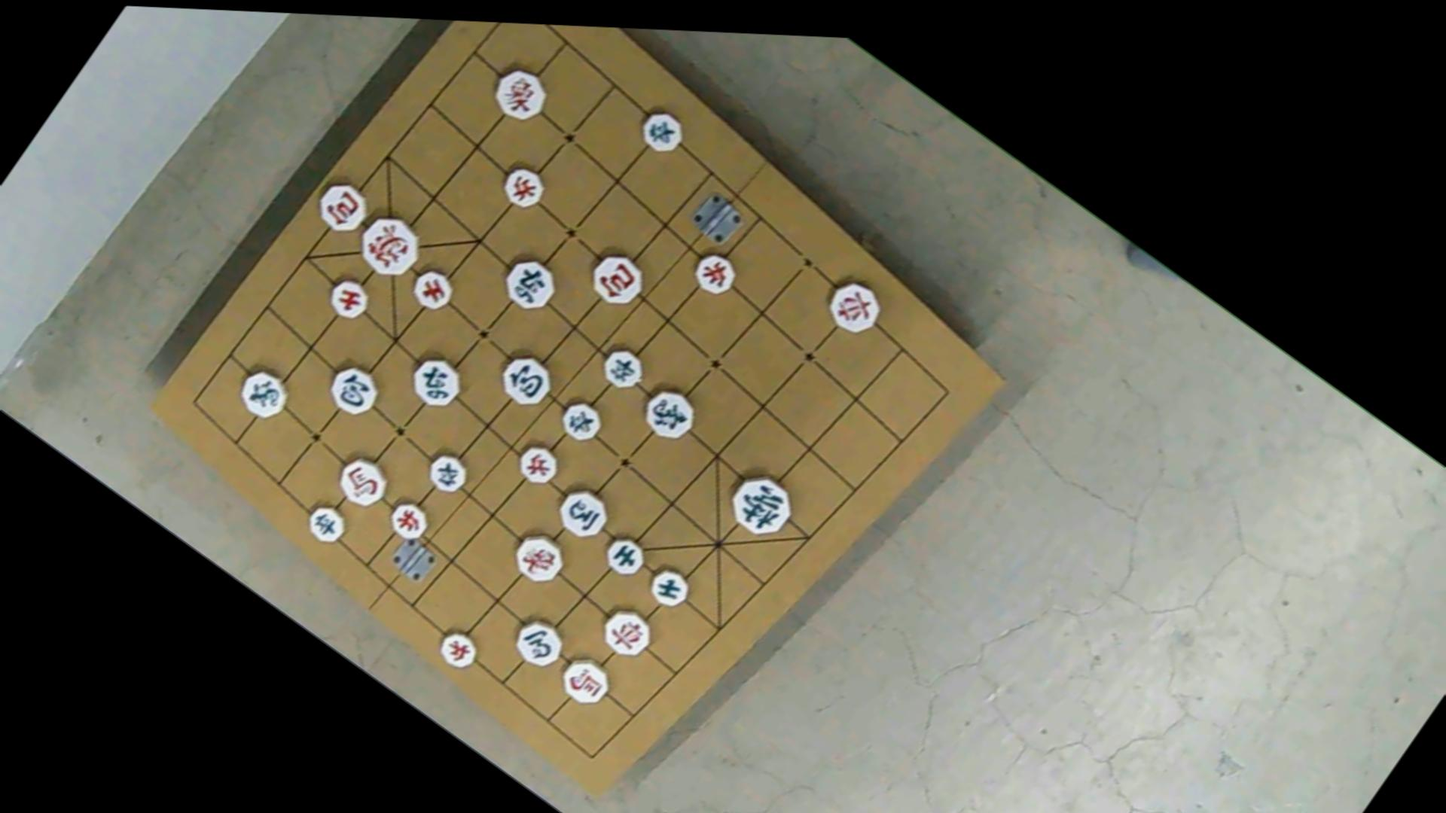cha_green: (497, 251, 563, 319), (404, 348, 468, 414)
cha_red: (819, 272, 886, 341), (594, 601, 657, 665)
jol_green: (633, 102, 688, 159), (597, 344, 649, 397), (419, 447, 471, 500), (557, 394, 608, 446), (300, 498, 351, 550)
jol_red: (496, 160, 549, 215), (691, 245, 743, 300), (511, 439, 563, 492), (432, 624, 483, 675), (384, 494, 434, 545)
ma_green: (549, 480, 613, 545), (508, 612, 569, 676)
ma_red: (330, 449, 397, 516), (554, 647, 614, 709)
po_green: (492, 347, 557, 413), (322, 356, 386, 420)
po_red: (584, 245, 651, 316), (310, 175, 375, 243)
sa_green: (642, 562, 692, 613), (600, 530, 650, 581)
sa_red: (407, 264, 459, 318), (325, 272, 376, 324)
sang_green: (633, 379, 699, 446), (232, 361, 294, 425)
sang_red: (490, 59, 557, 129), (508, 525, 572, 590)
wang_green: (723, 467, 801, 548)
wang_red: (351, 206, 429, 288)
